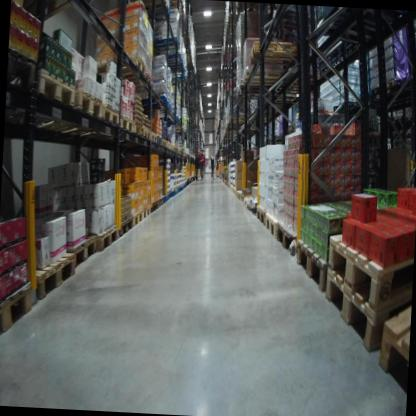pallet: (318, 260, 412, 357), (324, 225, 414, 314), (30, 247, 81, 310), (35, 59, 77, 135), (45, 84, 104, 138), (294, 235, 342, 298), (377, 297, 410, 386), (314, 8, 380, 48), (0, 272, 36, 344), (245, 35, 312, 69), (57, 230, 97, 281), (86, 49, 147, 82), (22, 0, 87, 29), (78, 101, 121, 142), (241, 61, 303, 87), (8, 53, 41, 94), (232, 76, 282, 102), (101, 112, 134, 142), (142, 26, 182, 49), (276, 220, 299, 256), (92, 223, 118, 254), (263, 213, 283, 242), (143, 5, 171, 23), (115, 215, 134, 240), (132, 0, 168, 11), (128, 119, 144, 141), (381, 74, 395, 94), (255, 202, 266, 226), (130, 208, 142, 229), (144, 129, 159, 143), (370, 83, 383, 99), (138, 204, 151, 220), (140, 126, 151, 143), (249, 201, 258, 217), (150, 198, 159, 214), (243, 196, 251, 211), (156, 133, 163, 144), (157, 197, 164, 207), (160, 194, 167, 204), (412, 61, 416, 77)
pallet_truck: (213, 148, 226, 178)
